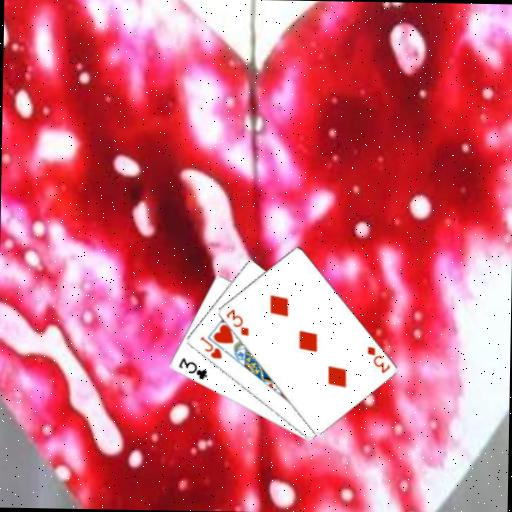3C: (175, 354, 209, 382)
3D: (222, 306, 251, 338), (364, 343, 392, 375)
JH: (197, 333, 224, 360)
